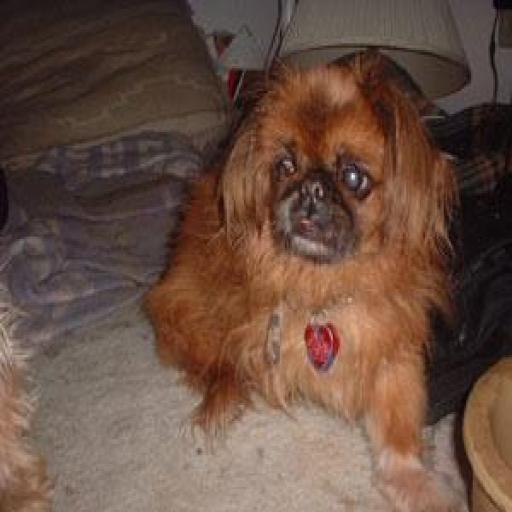dog_face: (220, 74, 430, 279)
